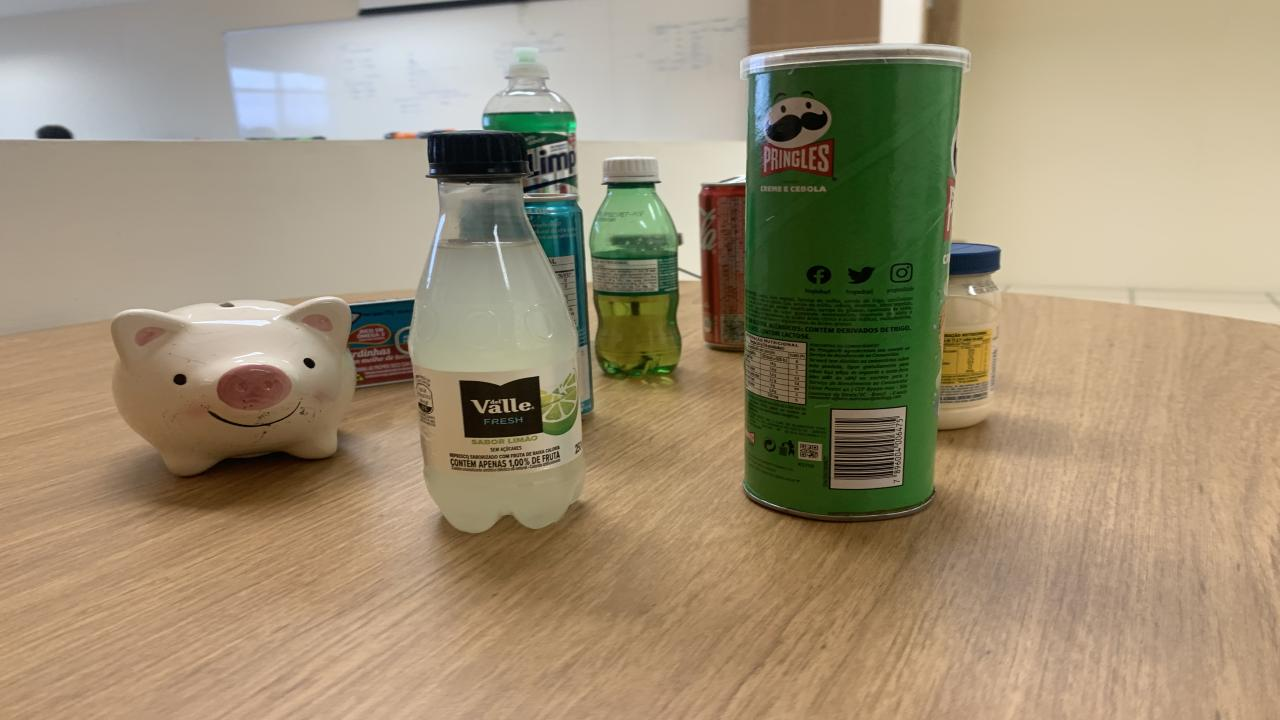Coke-Drinks: (700, 176, 745, 351)
Detergent-Cleanup_Items: (482, 47, 578, 201)
Guarana-Drinks: (590, 158, 680, 375)
Mayonnaise-Pantry_Items: (938, 244, 1002, 429)
Pig_Safe-Miscellaneous: (112, 296, 355, 476)
Pringles-Snacks: (740, 43, 978, 521)
Soda-Drinks: (410, 131, 582, 531)
Tea-Drinks: (525, 197, 592, 412)
Tuna_Can-Pantry_Items: (348, 298, 415, 386)
